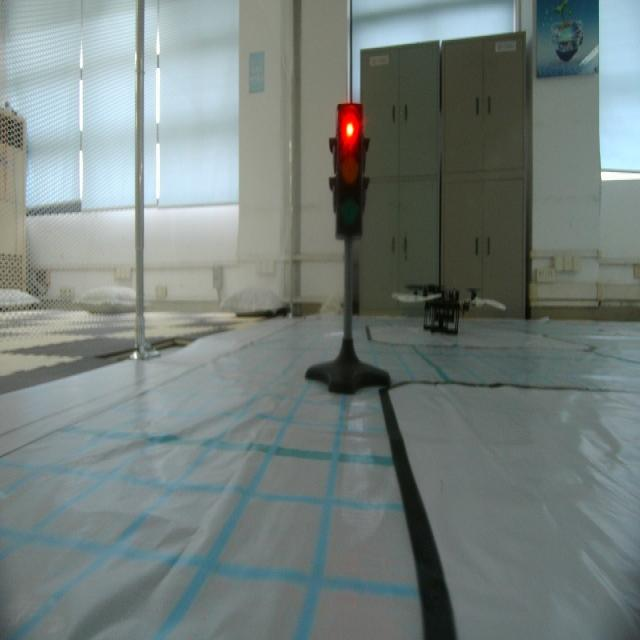red: (328, 100, 372, 243)
